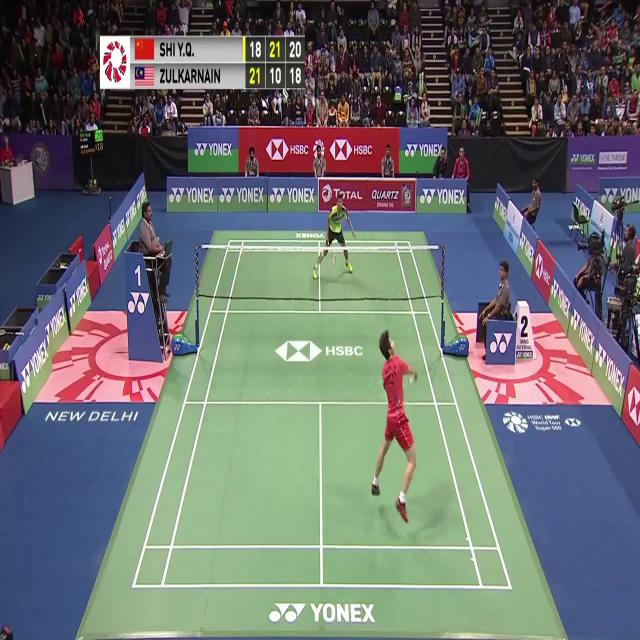Shuttlecock: (334, 224, 340, 236)
